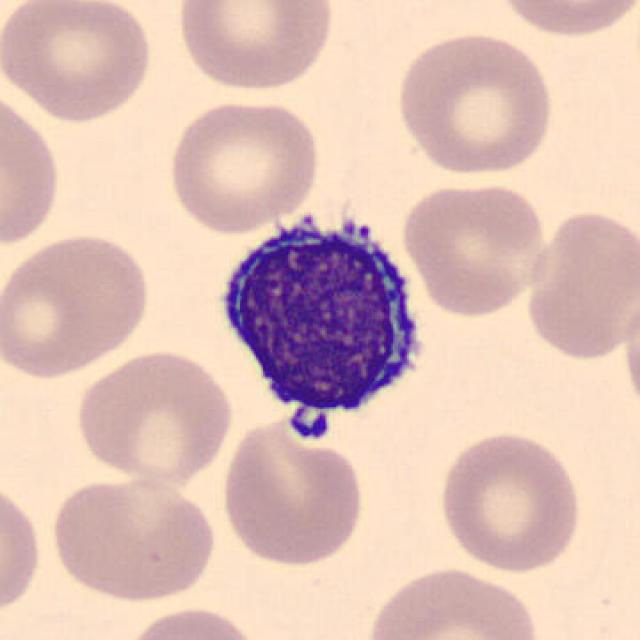Lymphocyte: (208, 201, 437, 443)
Platelets: (286, 406, 334, 444)
RBC: (391, 27, 557, 178), (217, 411, 370, 569), (0, 229, 155, 381), (71, 346, 237, 486), (44, 472, 220, 604), (164, 95, 324, 236), (434, 426, 585, 574), (398, 178, 553, 319), (0, 0, 156, 125), (519, 203, 638, 363), (170, 0, 338, 95), (359, 562, 544, 640), (0, 85, 64, 252), (0, 476, 46, 622), (489, 0, 640, 41), (117, 603, 265, 640), (618, 285, 640, 425)
